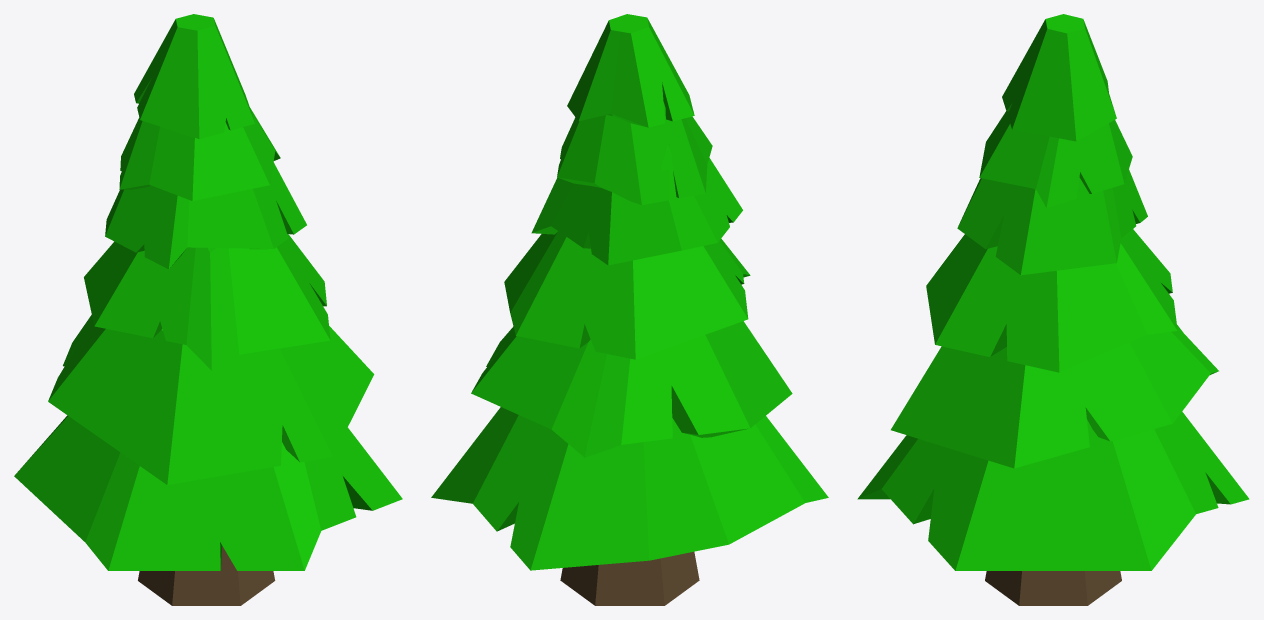
Rendered from Tree2.fbx.
3 renders of one model, left to right at view 1: azimuth 30°, elevation 25°; view 2: azimuth 150°, elevation 25°; view 3: azimuth 270°, elevation 25°, orthographic.
Parts seen in each view (by area): view 1: Cylinder.002, Cylinder.001, Cylinder.003, Cylinder.004, Cylinder.006, Cylinder.005, Cylinder; view 2: Cylinder.001, Cylinder.002, Cylinder.003, Cylinder.004, Cylinder.005, Cylinder.006, Cylinder; view 3: Cylinder.001, Cylinder.002, Cylinder.003, Cylinder.004, Cylinder.006, Cylinder.005, Cylinder.
Part boxes in pixels (x1,y1,x2,y2): Cylinder.002: (48, 315, 374, 484); Cylinder.001: (14, 415, 402, 570); Cylinder.003: (84, 234, 330, 370); Cylinder.004: (105, 162, 306, 269); Cylinder.006: (134, 14, 255, 139); Cylinder.005: (119, 108, 280, 200); Cylinder: (138, 546, 275, 605); Cylinder.001: (431, 407, 828, 570); Cylinder.002: (471, 321, 792, 457); Cylinder.003: (504, 231, 750, 359); Cylinder.004: (531, 145, 742, 265); Cylinder.005: (557, 101, 712, 204); Cylinder.006: (567, 14, 694, 127); Cylinder: (560, 551, 699, 605); Cylinder.001: (857, 411, 1249, 570); Cylinder.002: (891, 325, 1218, 468); Cylinder.003: (926, 229, 1177, 372); Cylinder.004: (957, 170, 1147, 275); Cylinder.006: (1002, 14, 1116, 141); Cylinder.005: (979, 111, 1132, 207); Cylinder: (985, 571, 1121, 605).
Bounding box in the file's own units: 497 × 893 × 572.
